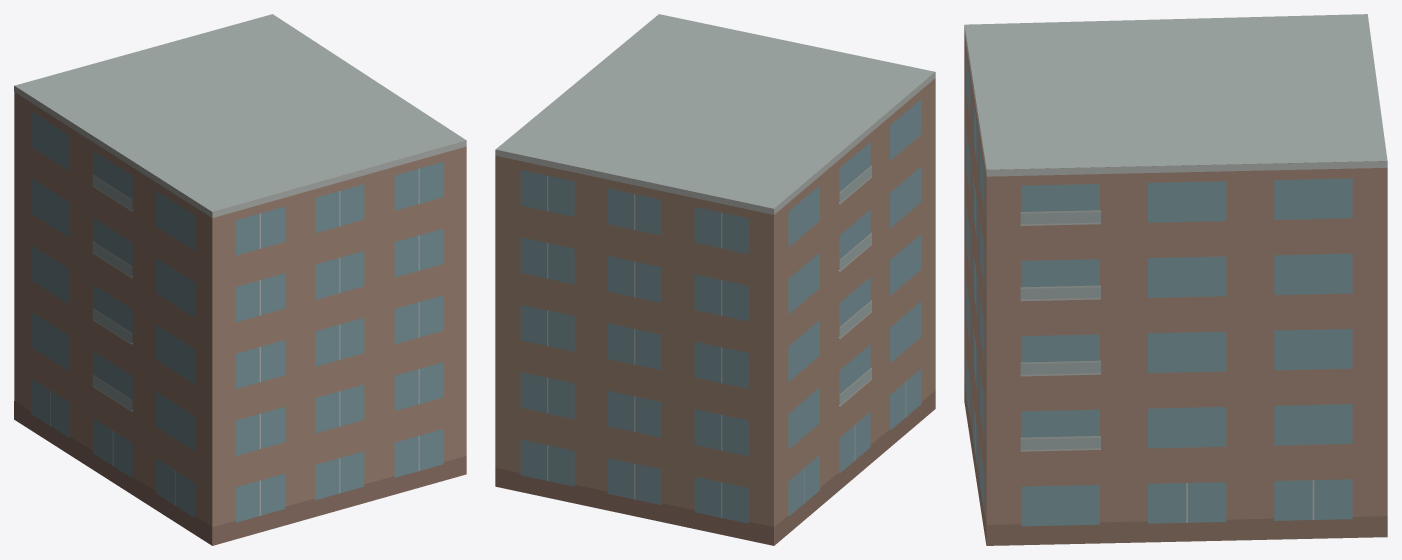
Rendered from survey-upis-32698328.glb.
3 renders of one model, left to right at view 1: azimuth 30°, elevation 25°; view 2: azimuth 150°, elevation 25°; view 3: azimuth 270°, elevation 25°, orthographic. The views are drawn at different scales.
Visible parts, largest first — view 1: survey-upis-32698328.tmp; view 2: survey-upis-32698328.tmp; view 3: survey-upis-32698328.tmp.
Part boxes in pixels (left/top/right/bottom): survey-upis-32698328.tmp: left=14, top=14, right=466, bottom=545; survey-upis-32698328.tmp: left=495, top=14, right=935, bottom=545; survey-upis-32698328.tmp: left=964, top=14, right=1387, bottom=545.
Bounding box in the file's own units: 11.86 × 13.35 × 13.63.
